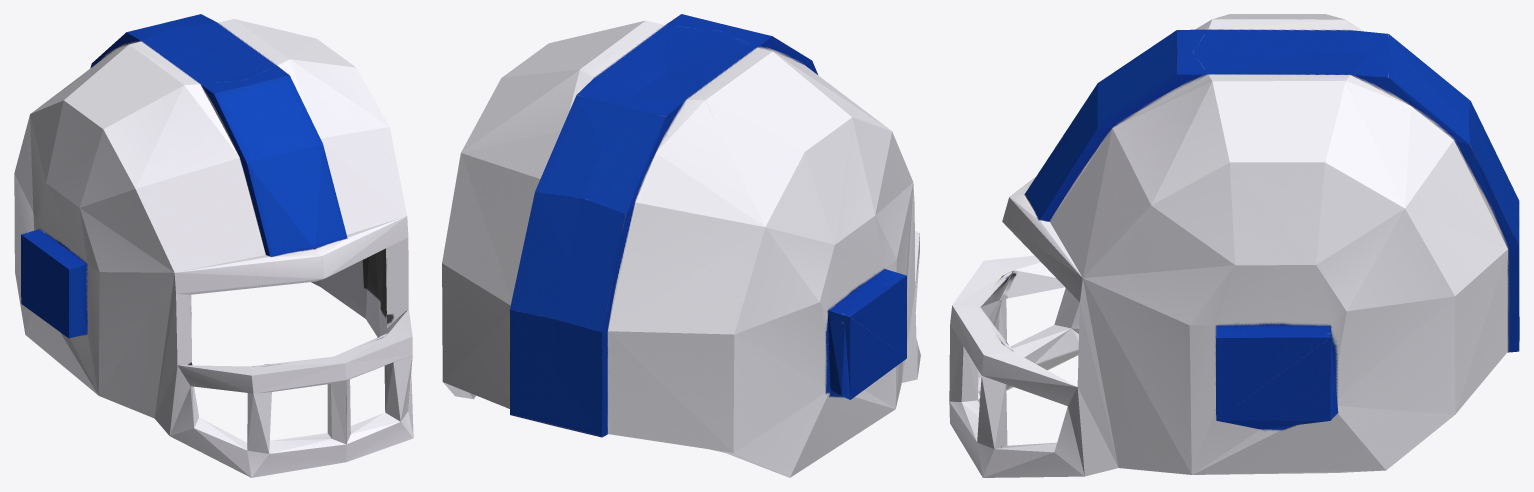
Rendered from helmet.glb.
3 views of the same model, side by side, from view 1: azimuth 30°, elevation 25°; view 2: azimuth 150°, elevation 25°; view 3: azimuth 270°, elevation 25° (orthographic). The views are drawn at different scales.
Visible parts, largest first — view 1: helmet; view 2: helmet; view 3: helmet.
Part boxes in pixels (left/top/right/bottom): helmet: left=14, top=14, right=413, bottom=477; helmet: left=442, top=14, right=920, bottom=477; helmet: left=949, top=14, right=1519, bottom=477.
Size of the model in its own units: 0.3992 by 0.3621 by 0.4913.
Materials: 1 (1 with a texture image).
